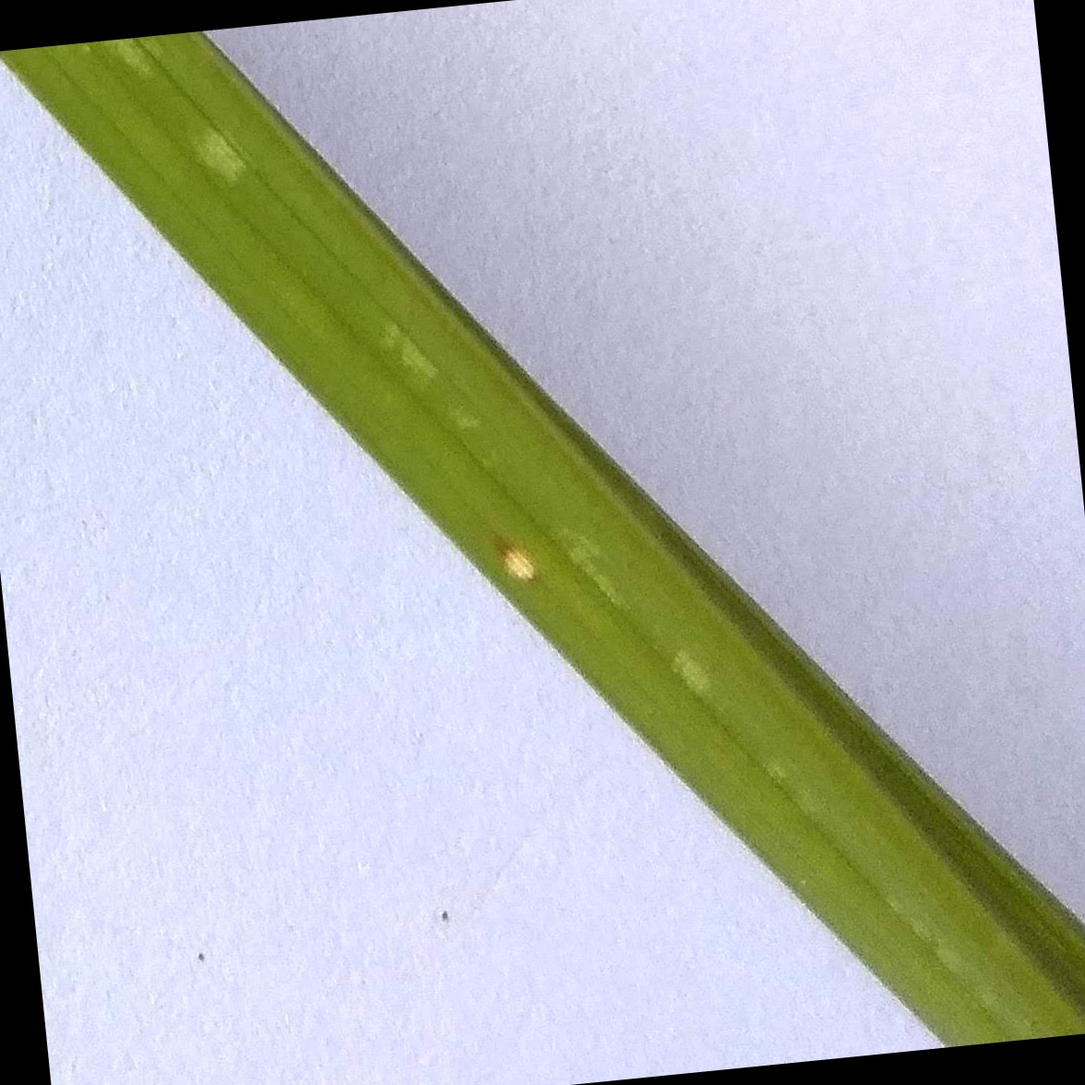Brown_Spot: (489, 522, 533, 587)
